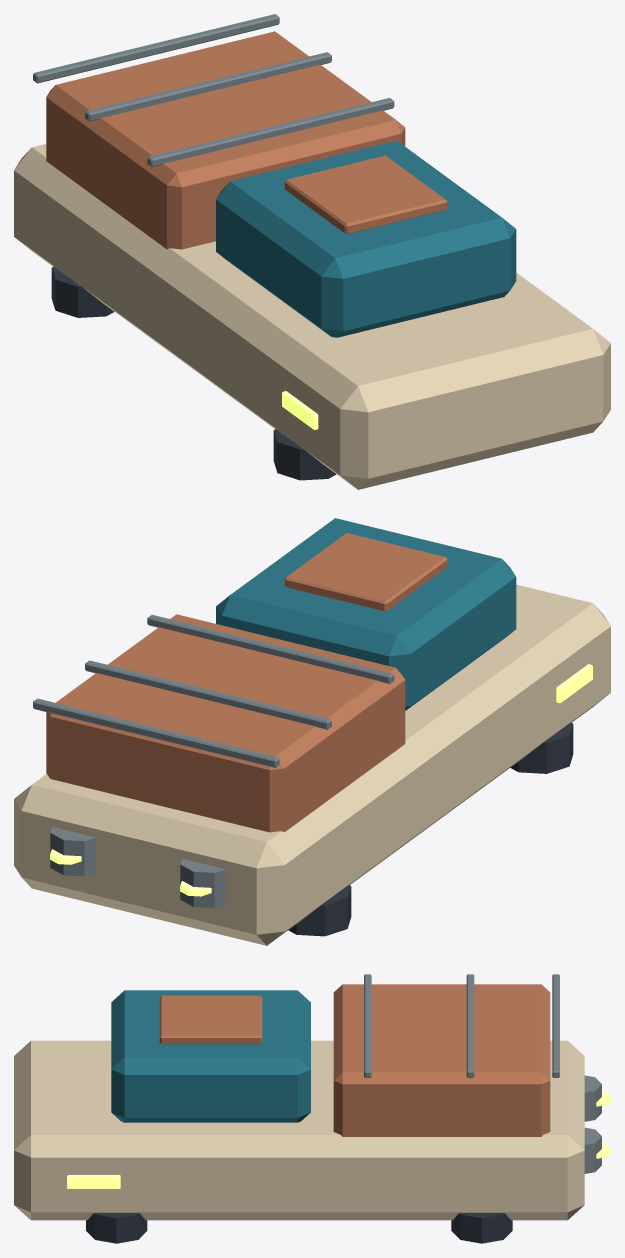
File: vehicles_006_seed11.glb
The picture shows the model from 3 angles, top to bottom: view 1: azimuth 30°, elevation 25°; view 2: azimuth 150°, elevation 25°; view 3: azimuth 270°, elevation 25°; orthographic projection. The views are drawn at different scales.
Parts seen in each view (by area): view 1: vehicles_006_seed11; view 2: vehicles_006_seed11; view 3: vehicles_006_seed11.
Part boxes in pixels (x1=…): vehicles_006_seed11: x1=14, y1=14, x2=610, y2=489; vehicles_006_seed11: x1=14, y1=518, x2=610, y2=945; vehicles_006_seed11: x1=14, y1=974, x2=610, y2=1243.
Bounding box in the file's own units: 2.17 × 1.49 × 4.66.
